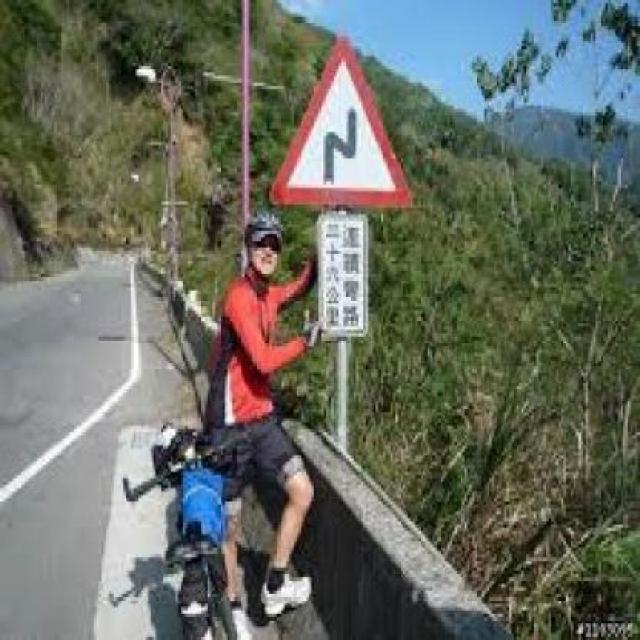right_sharp_curve: (272, 42, 418, 218)
